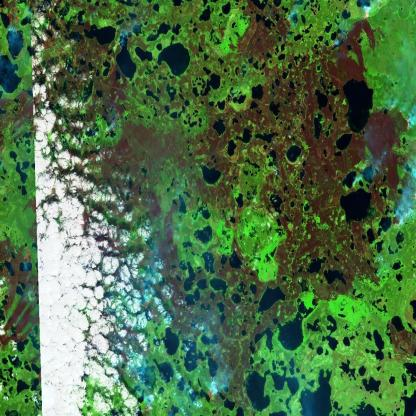fire: (383, 204, 413, 245), (13, 240, 38, 277), (105, 29, 132, 56), (320, 32, 345, 61), (202, 380, 224, 410), (396, 110, 416, 142), (355, 4, 378, 29), (136, 393, 159, 416), (280, 7, 300, 33)
